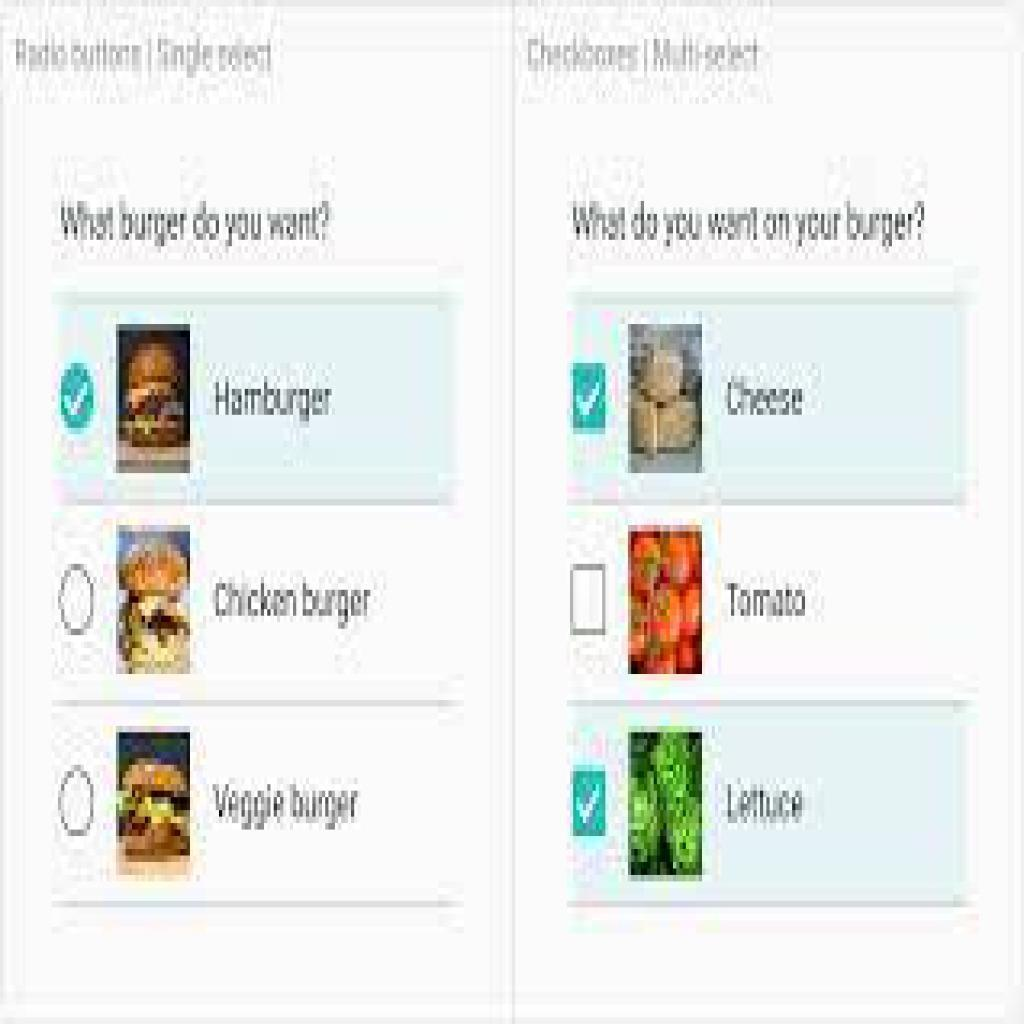checkbox: (572, 768, 608, 837), (574, 361, 607, 431), (573, 564, 608, 629)
label: (567, 199, 933, 253), (59, 199, 337, 247), (215, 777, 370, 834), (204, 582, 384, 627), (210, 377, 331, 424), (723, 776, 812, 829), (721, 373, 818, 421), (723, 572, 809, 625)
radio: (60, 364, 102, 437), (57, 763, 96, 837), (57, 566, 97, 634)
